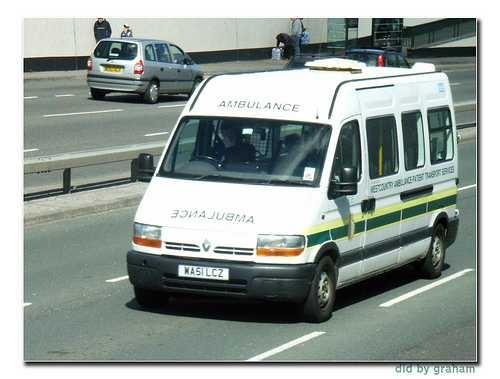car: (126, 56, 460, 322)
